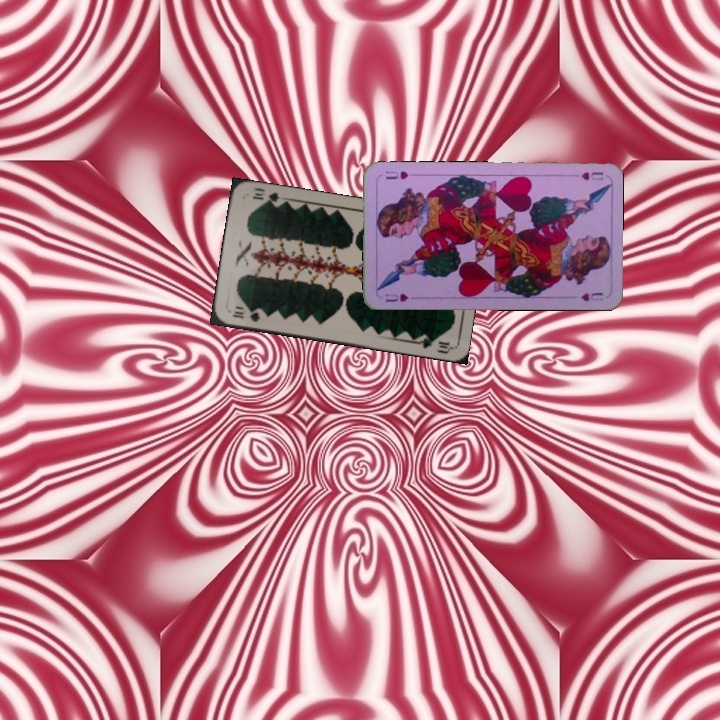G10: (228, 305, 263, 324)
HU: (566, 168, 606, 183), (381, 289, 411, 304)
